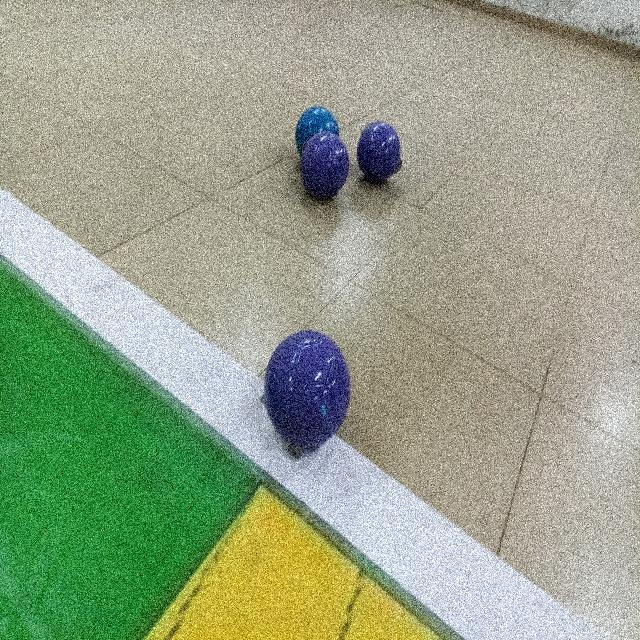blue_ball: (297, 105, 337, 152)
purple_ball: (264, 326, 350, 448), (301, 134, 350, 198), (355, 119, 401, 179)
